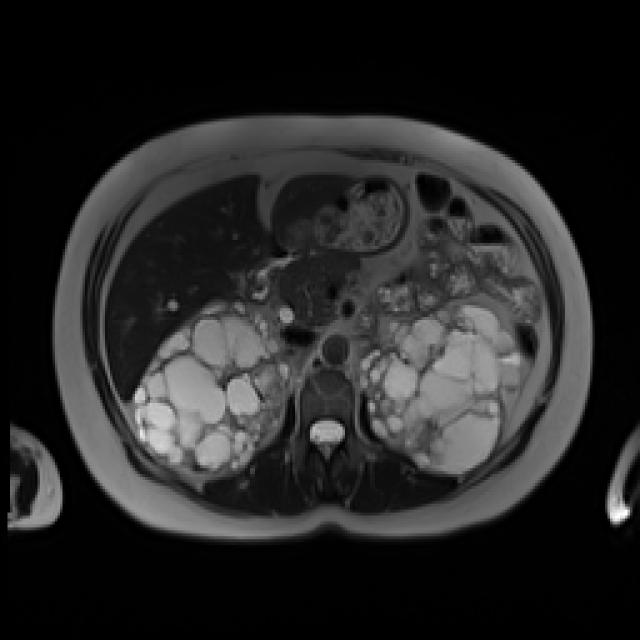sag: (131, 295, 294, 476)
sol: (355, 300, 523, 475)
